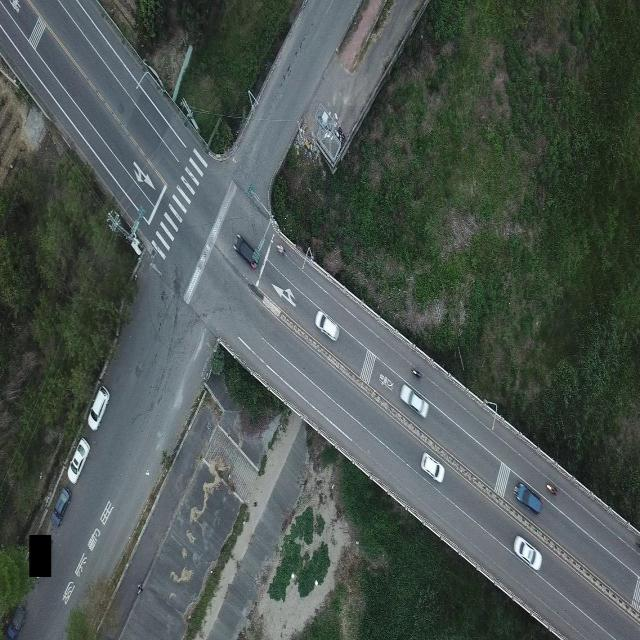car: (400, 378, 430, 421), (67, 436, 90, 484), (87, 384, 110, 431), (514, 535, 542, 571), (233, 233, 258, 269), (514, 482, 542, 514), (314, 309, 340, 341), (52, 485, 71, 526), (6, 603, 27, 639), (420, 452, 444, 483)
